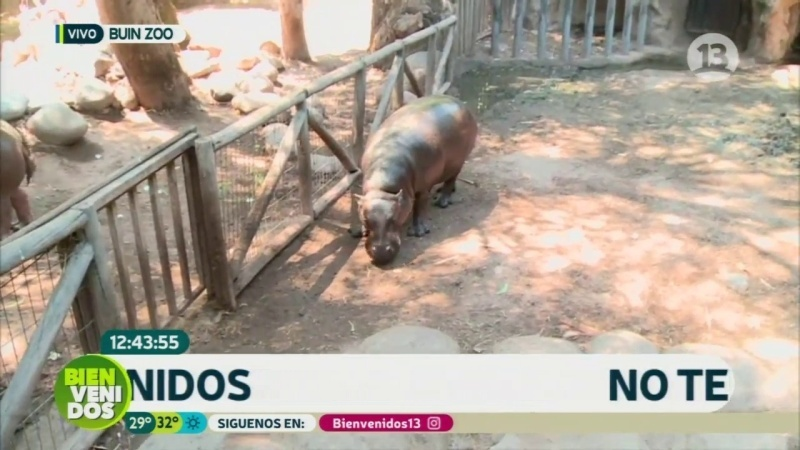hipopotamo: (325, 98, 502, 282)
